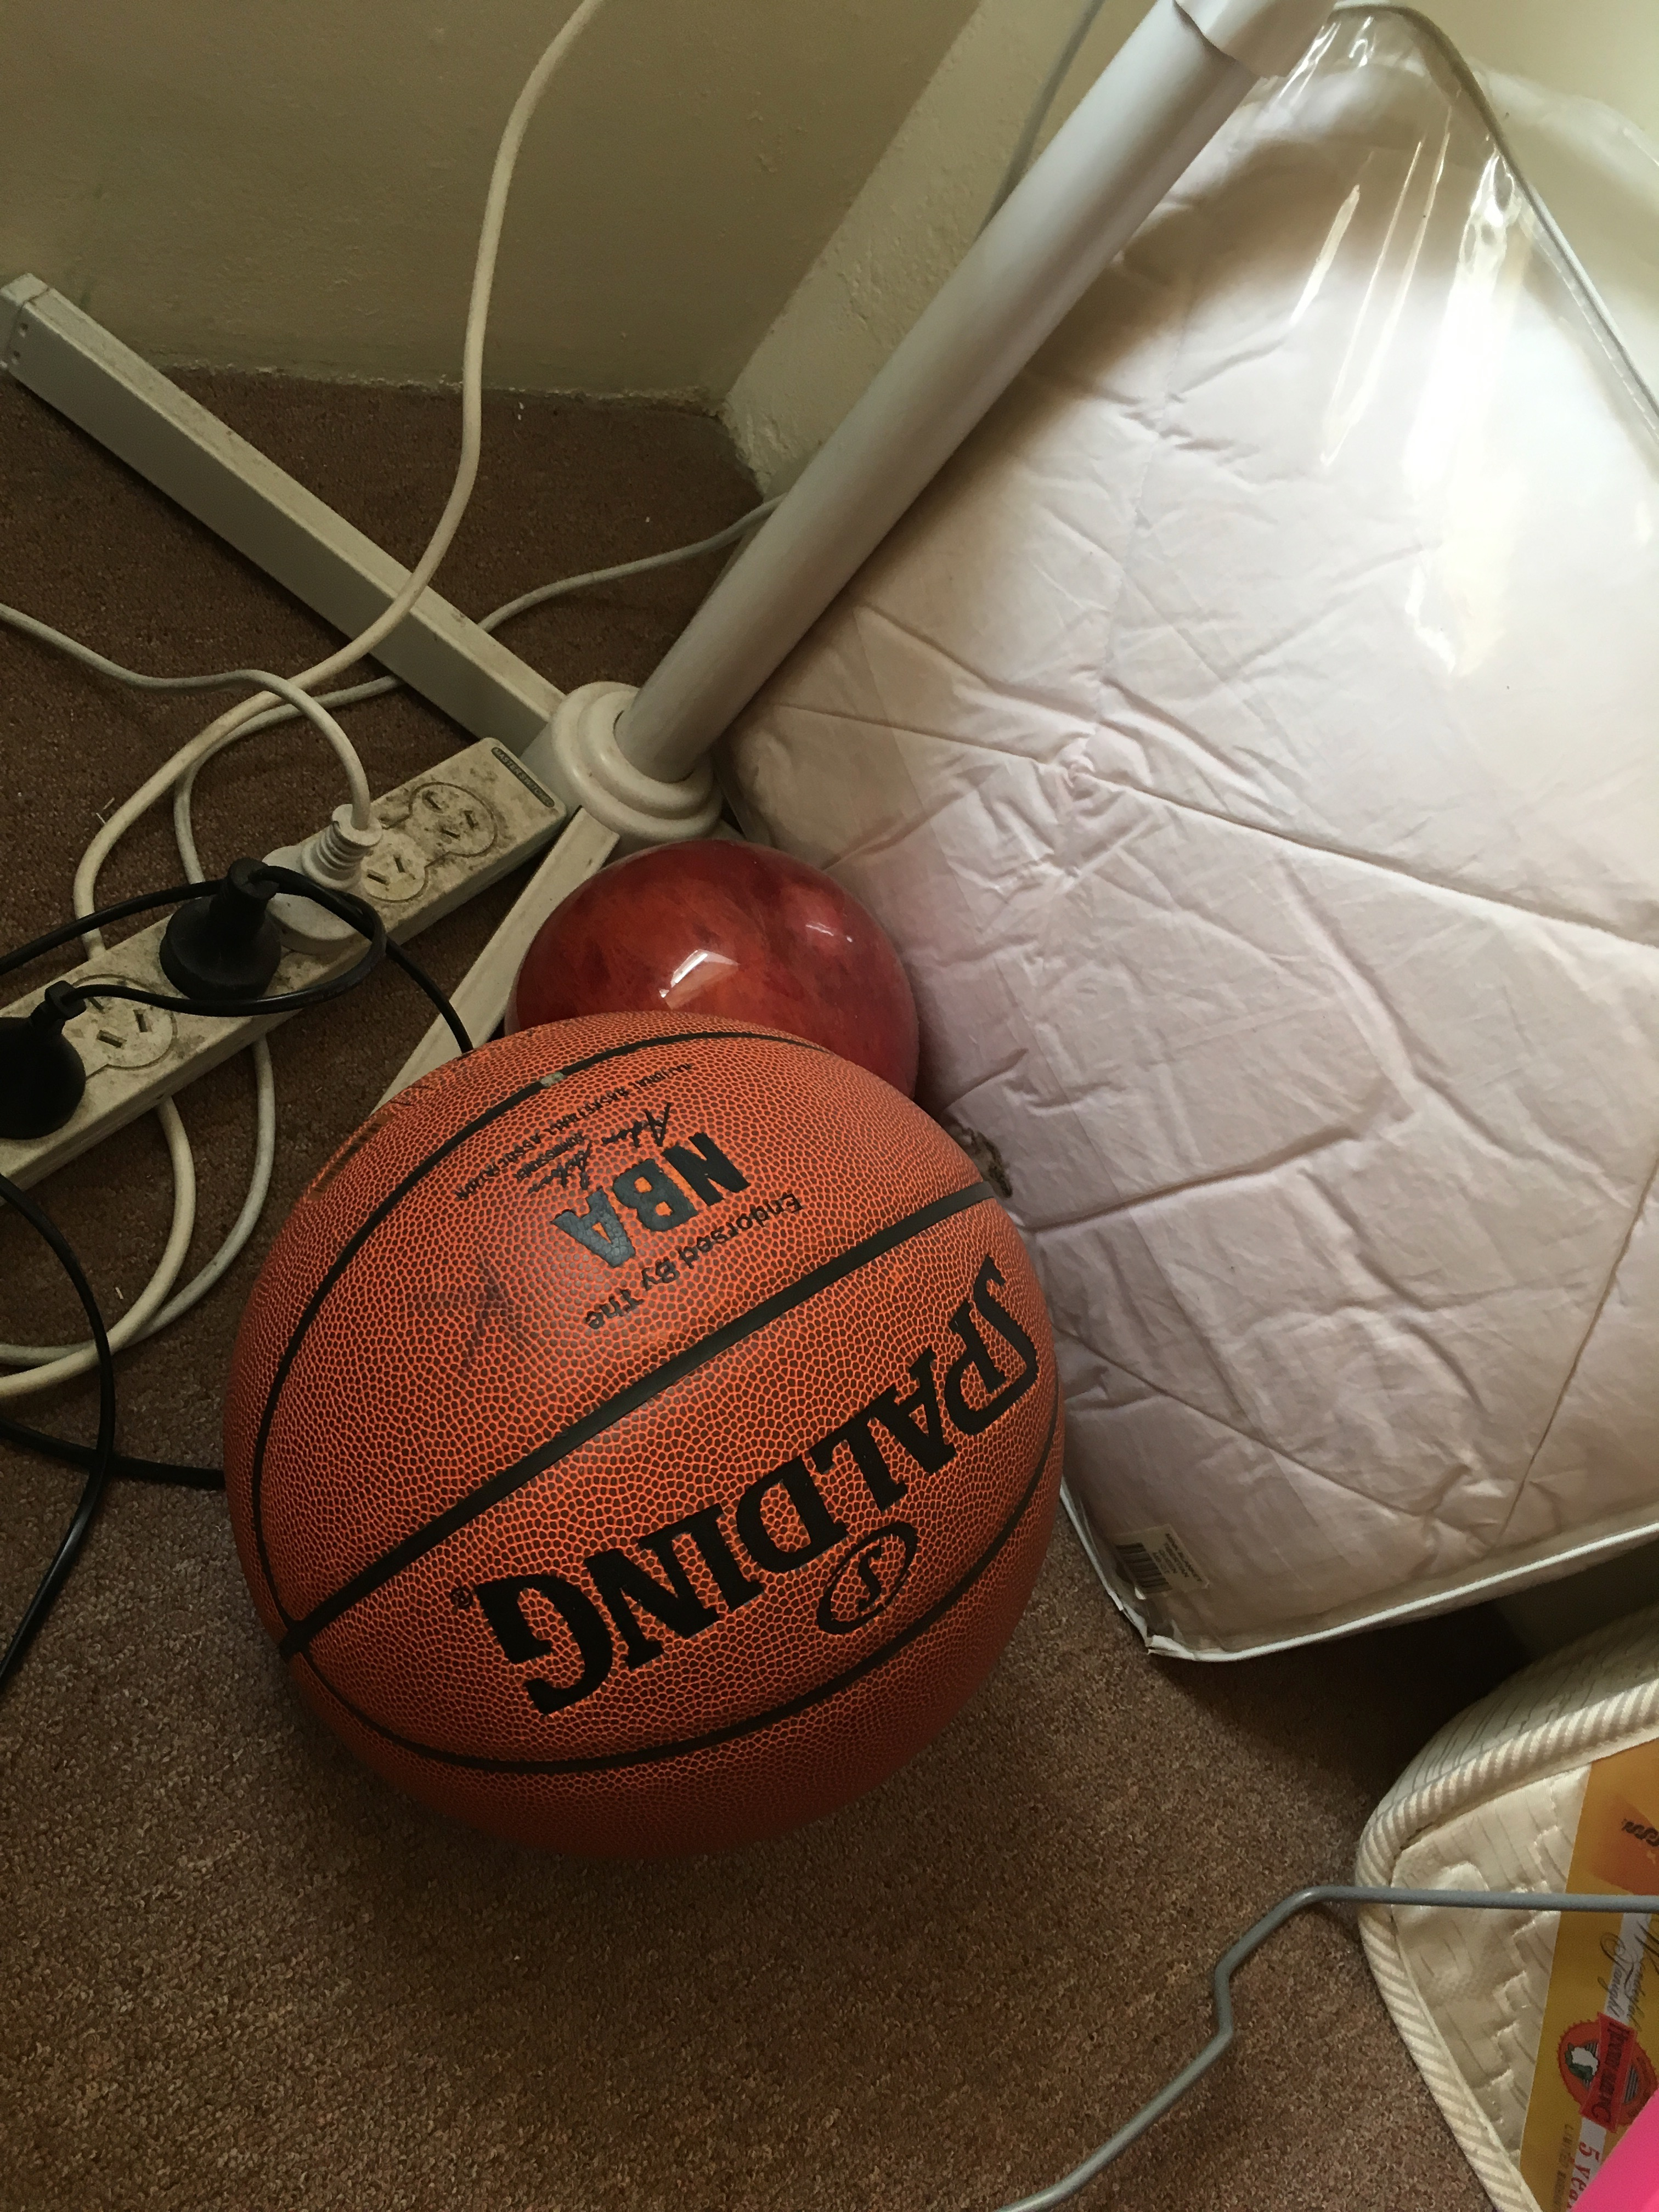Basketball: (218, 995, 1089, 1867)
